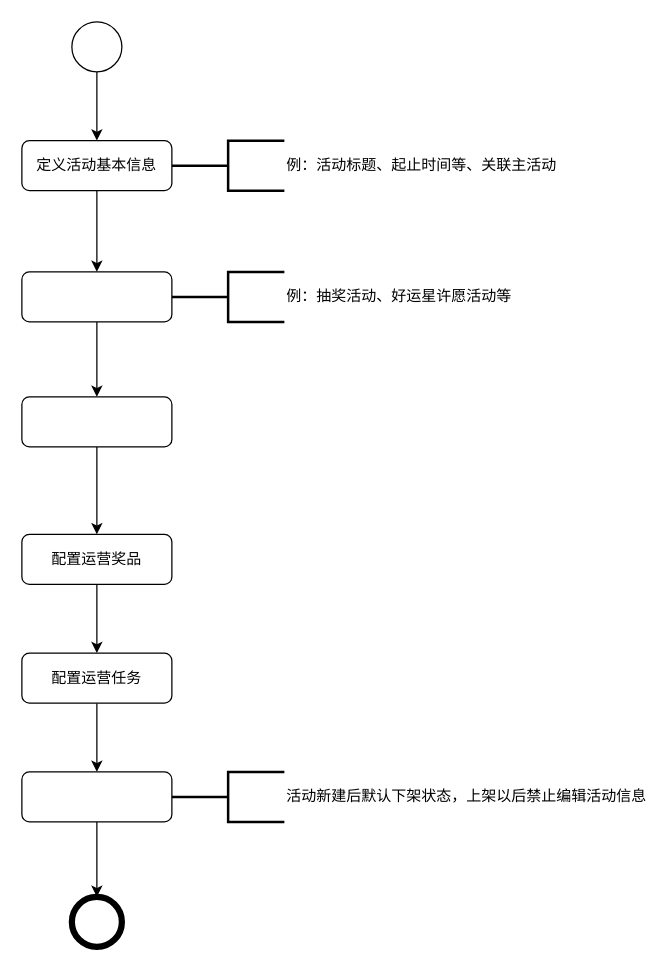
This 669x971 diagram has some shape labels left out. Each missing label, with the centre of its shape:
定义活动属性: (96,421)
运营活动上架: (96,796)
选择活动主题: (96,296)
